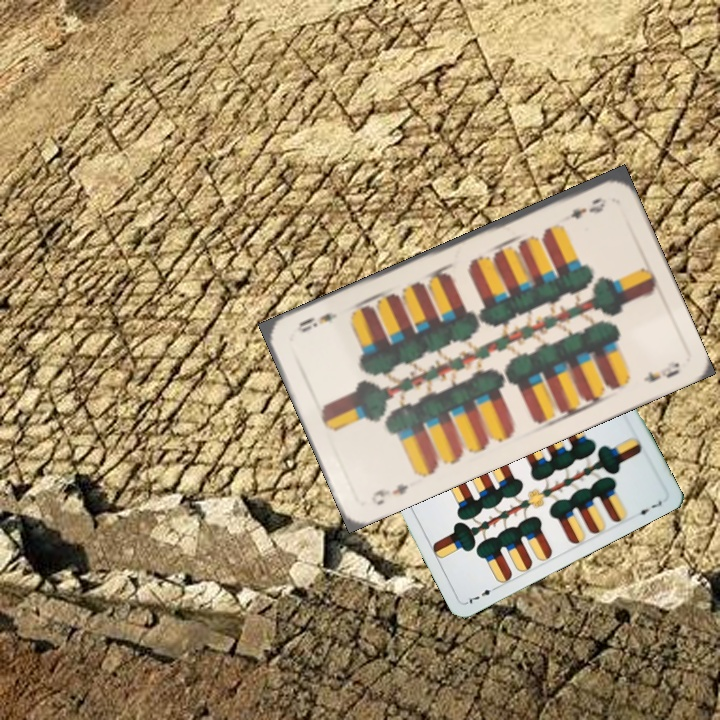E7: (463, 582, 501, 606)
E9: (367, 480, 412, 508), (566, 193, 609, 222)
